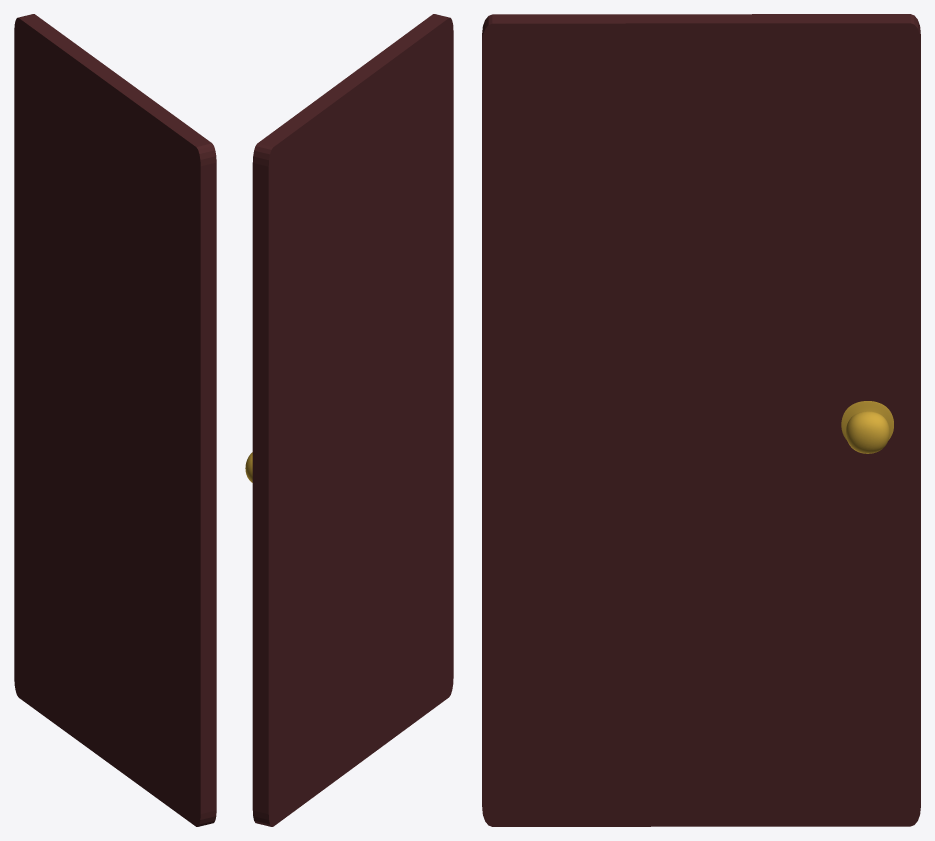
File: Puerta.fbx
3 renders of one model, left to right at view 1: azimuth 30°, elevation 25°; view 2: azimuth 150°, elevation 25°; view 3: azimuth 270°, elevation 25°, orthographic. The views are drawn at different scales.
Parts seen in each view (by area): view 1: Cube.020; view 2: Cube.020; view 3: Cube.020, Cube.019.
Part boxes in pixels (x1,y1,x2,y2): Cube.020: (14,14,216,826); Cube.020: (252,14,453,826); Cube.020: (482,14,920,826); Cube.019: (841,401,893,453).
Size of the model in its own units: 59.14 by 906 by 449.
